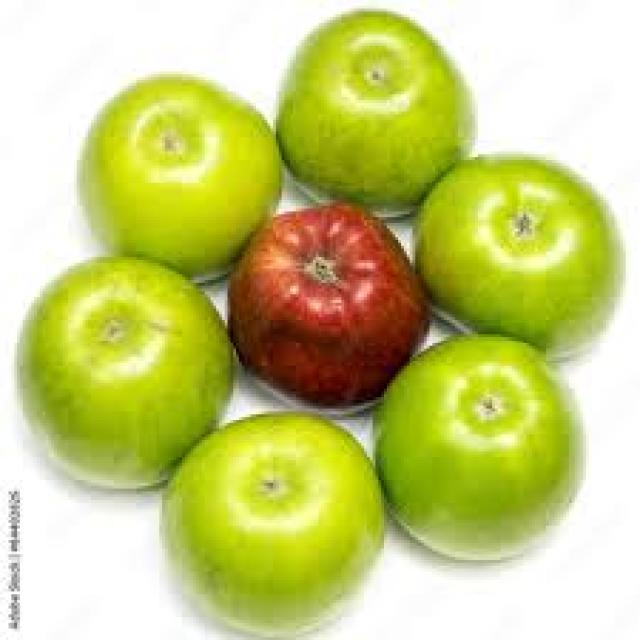non_orange: (150, 389, 476, 616), (336, 314, 618, 570), (15, 242, 261, 504), (39, 42, 292, 296), (390, 105, 638, 356), (194, 182, 446, 414), (266, 2, 486, 234)
